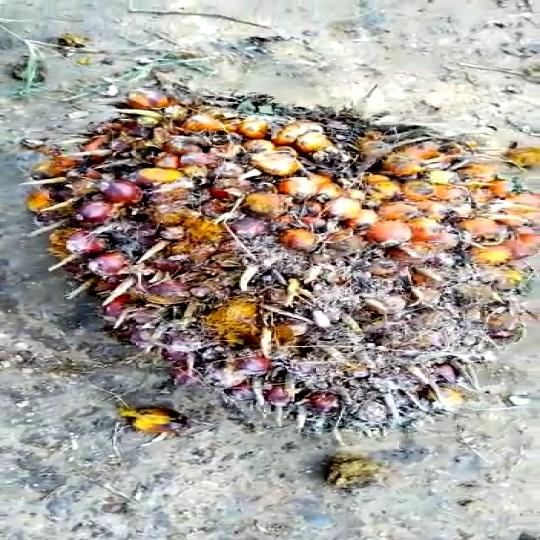masak: (65, 80, 540, 428)
